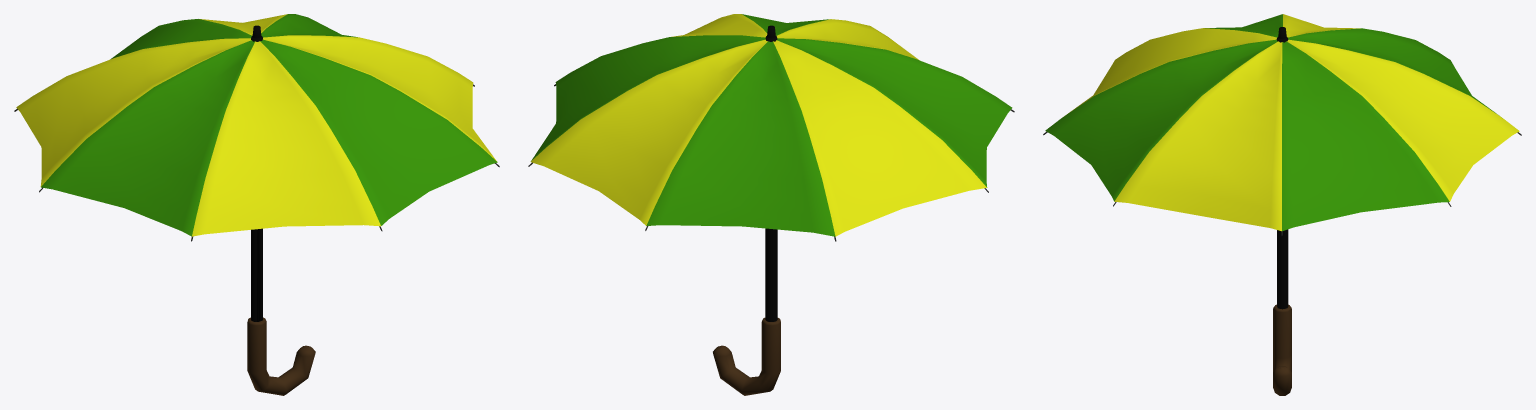
The model's file is UMBRELLA.fbx.
3 renders of one model, left to right at view 1: azimuth 30°, elevation 25°; view 2: azimuth 150°, elevation 25°; view 3: azimuth 270°, elevation 25°, orthographic. The views are drawn at different scales.
Visible parts, largest first — view 1: UMBERRLA; view 2: UMBERRLA; view 3: UMBERRLA.
Boxes of the visible parts, box(x1,y1,x2,y2) form: UMBERRLA: box(14, 14, 499, 395); UMBERRLA: box(528, 14, 1014, 395); UMBERRLA: box(1043, 14, 1521, 395).
Size of the model in its own units: 70.42 by 57.78 by 70.42.
Materials: 2 (1 with a texture image).
